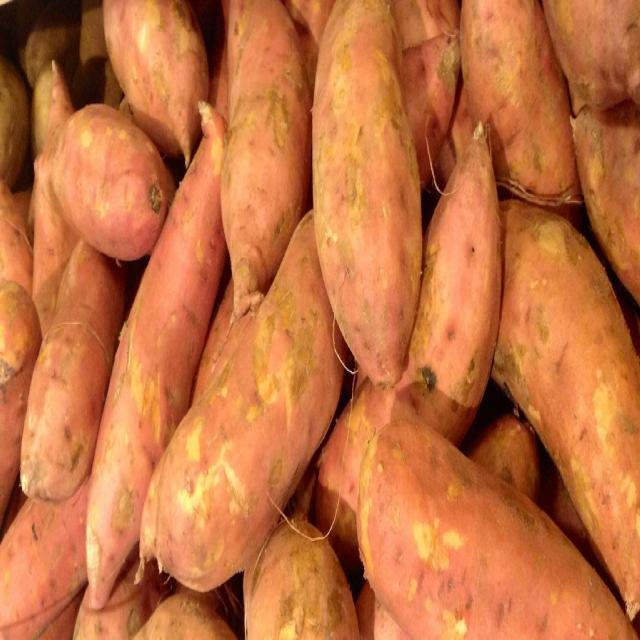Potato: (1, 0, 640, 639), (363, 417, 581, 640), (310, 29, 430, 408), (513, 194, 640, 528), (164, 308, 350, 534), (400, 127, 504, 451), (215, 5, 320, 305), (22, 239, 125, 512), (99, 0, 208, 159)
